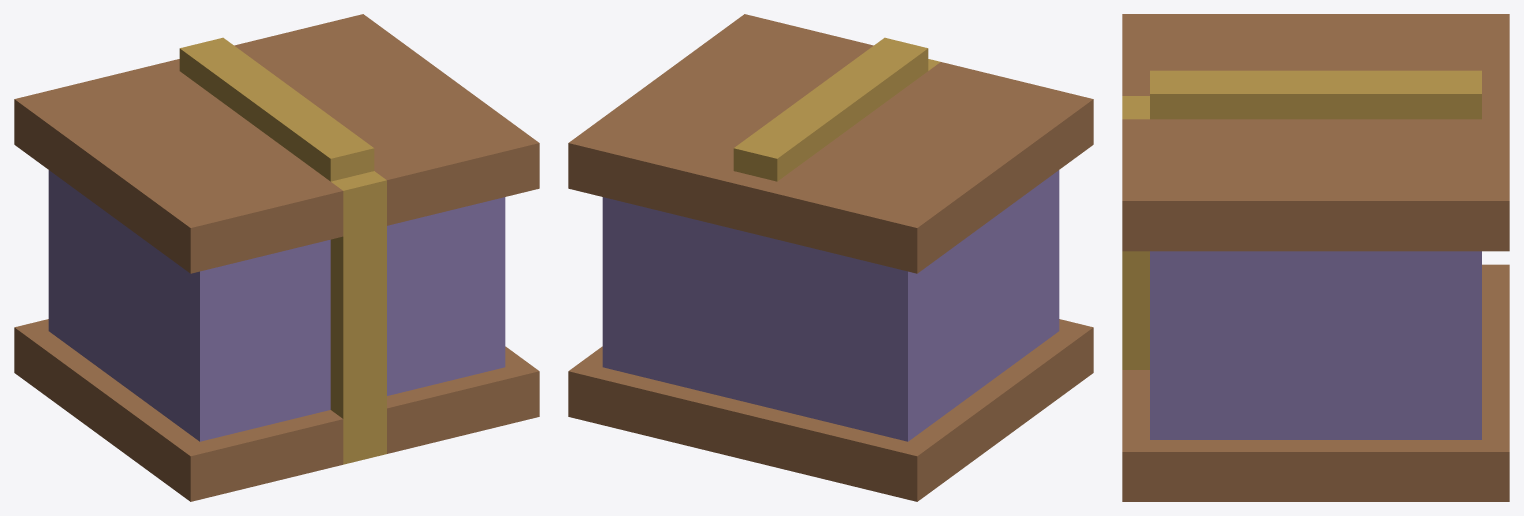
The model's file is software-20.glb.
3 views of the same model, side by side, from view 1: azimuth 30°, elevation 25°; view 2: azimuth 150°, elevation 25°; view 3: azimuth 270°, elevation 25° (orthographic). The views are drawn at different scales.
Parts seen in each view (by area): view 1: Shipping crate; view 2: Shipping crate; view 3: Shipping crate.
Boxes of the visible parts, bbox=[...] form: Shipping crate: bbox=[14, 14, 539, 501]; Shipping crate: bbox=[568, 14, 1093, 501]; Shipping crate: bbox=[1122, 14, 1509, 501].
Bounding box in the file's own units: 1.28 × 1.04 × 1.12.
